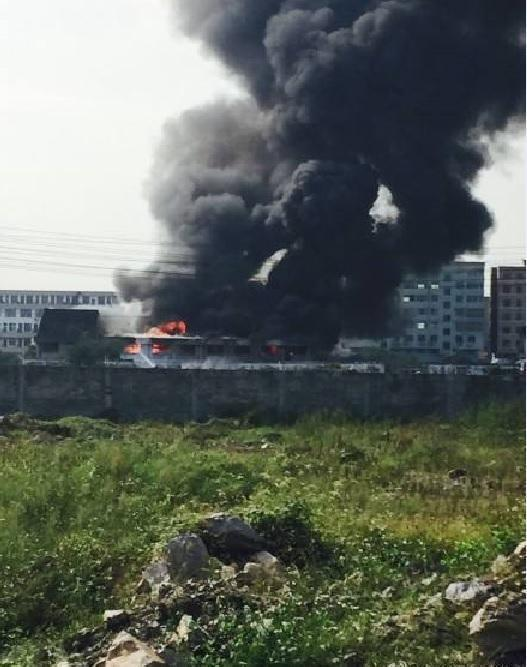fire: (119, 312, 195, 363)
